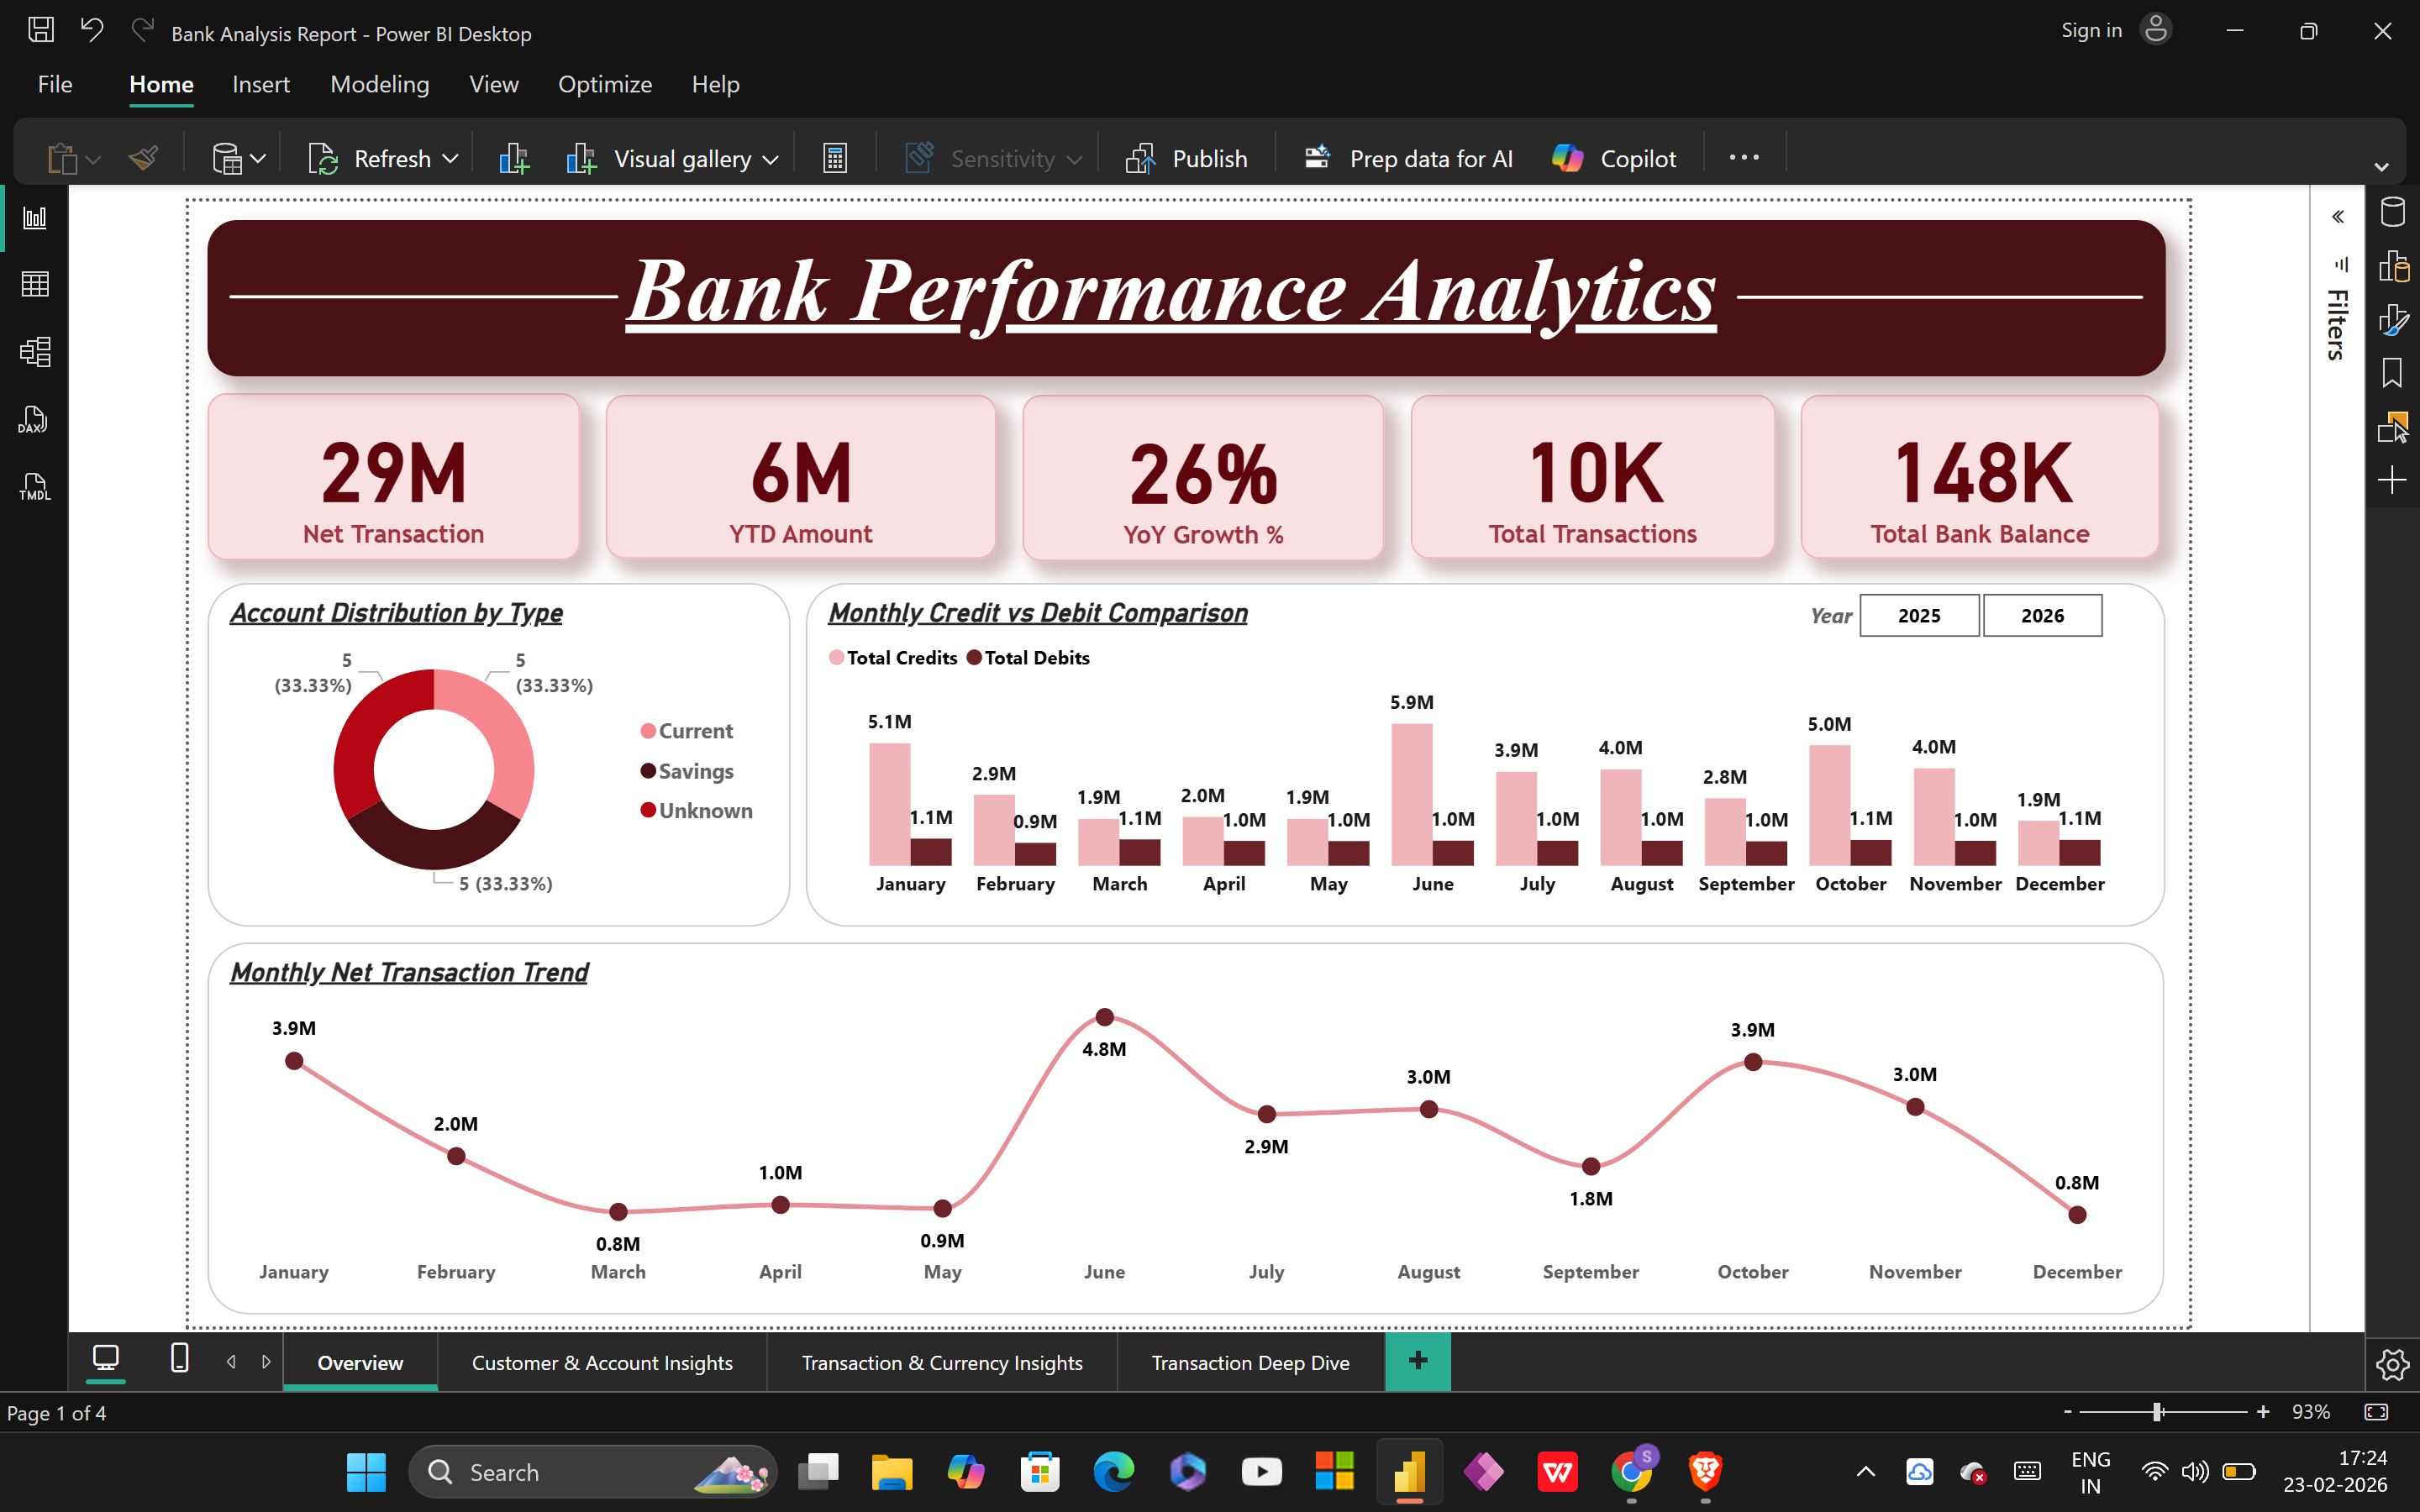

This screenshot's page, from the dashboard's own definition file:
{"tool":"powerbi","page":{"name":"Overview","canvas":[1280,720],"ordinal":0},"visuals":[{"type":"card","fields":{"Values":["Accounts.Total Bank Balance"]},"box":[1031.7,123.3,230,105],"z":0},{"type":"card","fields":{"Values":["Accounts.Net Transaction"]},"box":[11.4,122.9,238.6,107.1],"z":1000},{"type":"card","fields":{"Values":["Accounts.Total Transactions"]},"box":[781.7,123.3,233.3,105],"z":2000},{"type":"card","fields":{"Values":["Accounts.YoY Growth %"]},"box":[533.3,123.3,231.7,106.7],"z":3000},{"type":"card","fields":{"Values":["Accounts.YTD Amount"]},"box":[266.7,123.3,250,105],"z":4000},{"type":"lineChart","title":"Monthly Net Transaction Trend","fields":{"Y":["Accounts.Net Transaction"],"Category":["DateTable.Month Name"]},"box":[12,474,1252,238],"z":5000},{"type":"clusteredColumnChart","title":"Monthly Credit vs Debit Comparison","fields":{"Y":["Accounts.Total Credits","Accounts.Total Debits"],"Category":["DateTable.Month Name"]},"box":[394.4,244.4,870,220],"z":6000},{"type":"donutChart","title":"Account Distribution by Type","fields":{"Category":["CombinedBankingDataset.AccountType"],"Y":["Count(Accounts.AccountID)"]},"box":[11.4,244.3,372.9,220],"z":7000},{"type":"slicer","fields":{"Values":["DateTable.Year"]},"box":[1042.9,244.3,205.7,41.4],"z":8000},{"type":"shape","box":[11.4,11.4,1252.9,100],"z":9000},{"type":"textbox","box":[274.4,16.7,747.8,87.8],"z":10000},{"type":"shape","box":[25.6,38.9,248.9,44.4],"z":11000},{"type":"shape","box":[990,38.3,260,45],"z":12000},{"type":"textbox","box":[1032.2,250,45.6,31.1],"z":13000}]}

Visuals, with their boxes on the page's 1280x720 design canvas (x1, y1, x2, y2). These are canvas units, not pixel positions in the 2420x1512 screenshot, which may show the page scaled, cropped or inside an application window:
card - Accounts.Total Bank Balance: region(1032, 123, 1262, 228)
card - Accounts.Net Transaction: region(11, 123, 250, 230)
card - Accounts.Total Transactions: region(782, 123, 1015, 228)
card - Accounts.YoY Growth %: region(533, 123, 765, 230)
card - Accounts.YTD Amount: region(267, 123, 517, 228)
"Monthly Net Transaction Trend" lineChart: region(12, 474, 1264, 712)
"Monthly Credit vs Debit Comparison" clusteredColumnChart: region(394, 244, 1264, 464)
"Account Distribution by Type" donutChart: region(11, 244, 384, 464)
slicer - DateTable.Year: region(1043, 244, 1249, 286)
shape: region(11, 11, 1264, 111)
textbox: region(274, 17, 1022, 104)
shape: region(26, 39, 274, 83)
shape: region(990, 38, 1250, 83)
textbox: region(1032, 250, 1078, 281)
